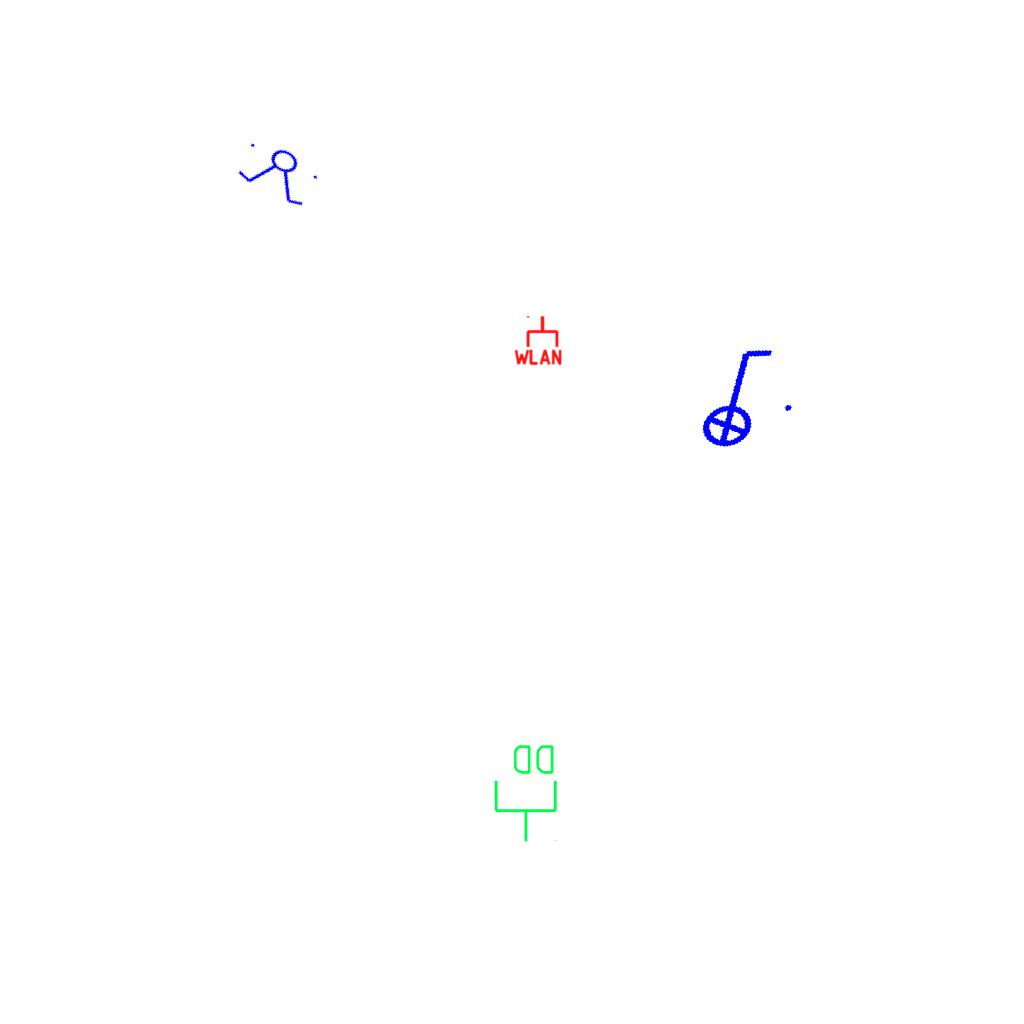Ausschalter_beleuchtet: (668, 333, 804, 459)
Datenanschluss_zweifach: (492, 741, 561, 844)
Serienschalter: (230, 132, 328, 214)
WLAN: (512, 314, 564, 366)
